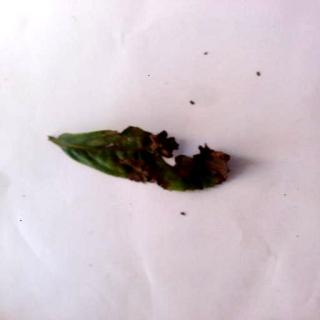Algal Leaf: (50, 124, 231, 192)
